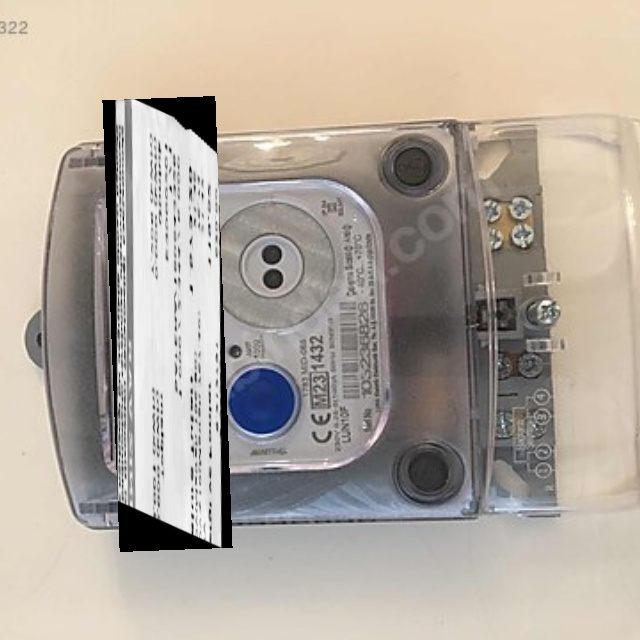electricity-bill: (101, 96, 232, 552)
